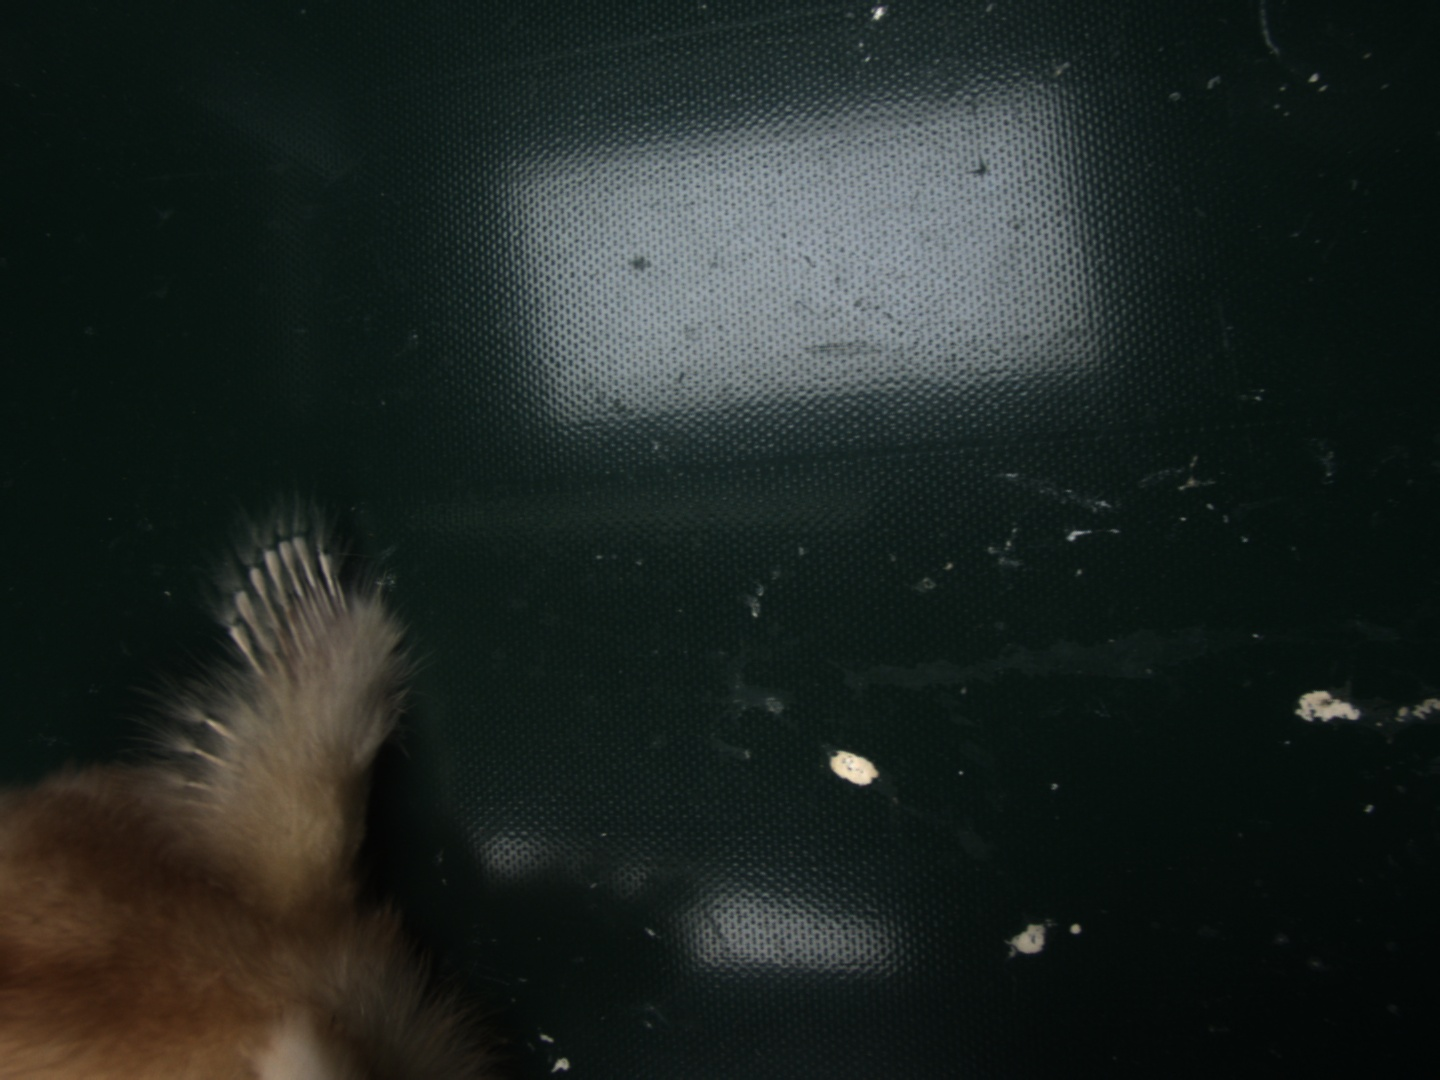female: (217, 530, 351, 684)
